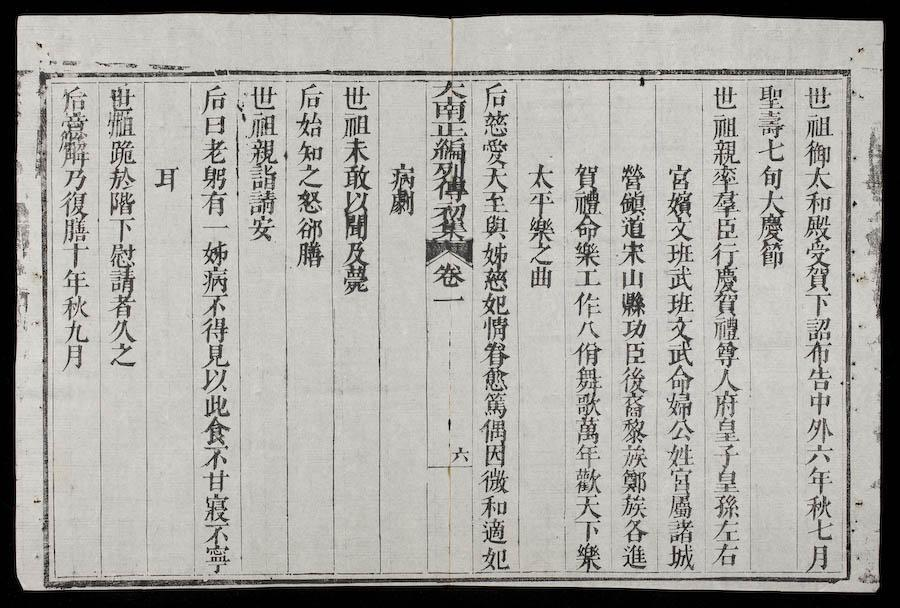c: (571, 541, 605, 571), (431, 260, 466, 289), (339, 265, 371, 295), (201, 492, 233, 522), (57, 112, 90, 141), (57, 84, 91, 112), (199, 83, 229, 114), (571, 289, 603, 318), (524, 188, 557, 216), (104, 110, 137, 138), (571, 466, 604, 494), (525, 215, 558, 243), (664, 543, 698, 570), (246, 164, 280, 191), (429, 137, 467, 161), (56, 142, 91, 168), (480, 81, 511, 110), (430, 178, 469, 201), (201, 544, 233, 572), (804, 415, 836, 443), (754, 110, 786, 138), (199, 238, 231, 266), (247, 83, 279, 111), (340, 83, 372, 111), (293, 111, 325, 139), (478, 467, 511, 494), (573, 415, 603, 444), (756, 240, 786, 269), (571, 161, 601, 190), (804, 465, 835, 493), (201, 417, 232, 445), (294, 240, 325, 268), (802, 84, 834, 111), (105, 139, 137, 166), (58, 190, 90, 217), (801, 140, 833, 167), (247, 112, 279, 139), (428, 202, 471, 222), (478, 545, 511, 571), (802, 113, 835, 139), (663, 442, 696, 468), (431, 97, 468, 120), (805, 542, 834, 571), (618, 161, 647, 190), (295, 82, 325, 110), (526, 161, 556, 189), (387, 162, 417, 190), (711, 466, 742, 493), (478, 517, 509, 544), (59, 267, 90, 294), (755, 83, 786, 110), (246, 215, 277, 242), (572, 366, 603, 393), (480, 110, 511, 137), (199, 266, 230, 293), (571, 240, 602, 267), (59, 241, 91, 267), (709, 139, 741, 165), (663, 391, 695, 417), (59, 294, 91, 320), (802, 214, 834, 240), (340, 112, 372, 138), (339, 138, 371, 164), (571, 340, 603, 366), (246, 190, 278, 216), (430, 220, 469, 241), (710, 83, 739, 111), (480, 137, 509, 165), (666, 467, 696, 494), (199, 137, 229, 164), (294, 188, 324, 215), (664, 190, 694, 217), (617, 239, 647, 266), (710, 190, 741, 216), (107, 342, 138, 368), (802, 266, 833, 292), (106, 84, 137, 110), (200, 367, 231, 393), (711, 493, 742, 519), (710, 391, 741, 417), (619, 543, 650, 569), (106, 242, 137, 268), (664, 365, 695, 391), (664, 316, 695, 342), (619, 468, 650, 494), (59, 217, 90, 243), (756, 189, 787, 215), (571, 189, 602, 215), (479, 341, 510, 367), (341, 164, 372, 190), (803, 494, 835, 519), (572, 494, 604, 519), (106, 268, 138, 293), (755, 138, 787, 163), (709, 165, 741, 190), (663, 265, 695, 290), (247, 139, 279, 164), (665, 162, 693, 190), (59, 343, 88, 370), (618, 290, 647, 317), (711, 265, 740, 292), (387, 190, 416, 217), (804, 364, 834, 390), (711, 417, 741, 443), (199, 190, 229, 216), (200, 316, 230, 342), (480, 391, 510, 417), (710, 113, 740, 139), (756, 214, 786, 240), (199, 164, 229, 190), (200, 444, 231, 469), (710, 542, 741, 567), (200, 342, 231, 367), (803, 316, 834, 341), (106, 293, 137, 318), (665, 518, 696, 543), (619, 443, 650, 468), (617, 190, 648, 215), (709, 240, 740, 265), (571, 215, 602, 240), (618, 418, 649, 443), (106, 191, 137, 216), (480, 367, 511, 392), (106, 166, 137, 191), (664, 290, 695, 315), (664, 417, 696, 441), (618, 494, 650, 518), (802, 167, 834, 191), (663, 241, 695, 265), (619, 366, 648, 392), (480, 241, 509, 267), (711, 341, 741, 366), (803, 240, 833, 265), (480, 166, 510, 191), (294, 139, 324, 164), (480, 267, 510, 292), (480, 316, 510, 341), (294, 216, 324, 241), (711, 443, 742, 467), (572, 392, 603, 416), (479, 292, 510, 316), (431, 79, 468, 99), (802, 191, 834, 214), (478, 494, 510, 517), (153, 164, 180, 191), (481, 214, 509, 240), (803, 443, 836, 465), (711, 291, 740, 316), (620, 518, 649, 543), (619, 392, 648, 417), (108, 318, 137, 343), (479, 417, 508, 442), (107, 217, 136, 242), (201, 468, 231, 492), (429, 120, 469, 138), (201, 393, 231, 417), (711, 368, 741, 392), (60, 320, 90, 344), (711, 317, 741, 341), (665, 494, 695, 518), (664, 217, 694, 241), (665, 341, 695, 365), (803, 292, 834, 315), (711, 519, 742, 542), (201, 522, 232, 545), (803, 341, 834, 364), (572, 443, 603, 466), (59, 167, 90, 190), (429, 291, 468, 309), (342, 214, 369, 240), (341, 241, 369, 266), (757, 164, 785, 189), (295, 164, 324, 188), (618, 215, 647, 239), (480, 190, 510, 213), (805, 519, 836, 541), (621, 340, 648, 365), (805, 390, 833, 414), (342, 190, 370, 214), (712, 216, 740, 240), (200, 293, 229, 316), (618, 267, 647, 290), (573, 519, 603, 541), (619, 317, 649, 339), (481, 442, 508, 466), (527, 265, 554, 289), (526, 243, 555, 265), (430, 161, 467, 178), (200, 114, 228, 136), (572, 268, 602, 288), (574, 319, 602, 339), (199, 220, 231, 235), (449, 445, 471, 463)
